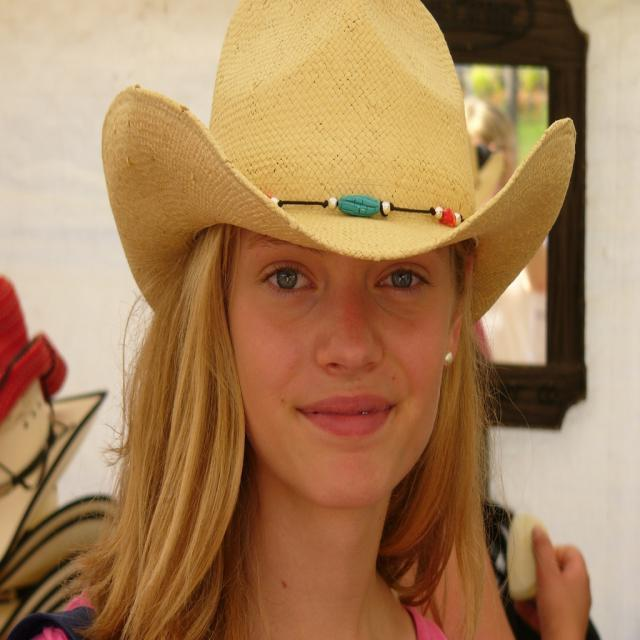closed-mouth: (297, 395, 399, 439)
